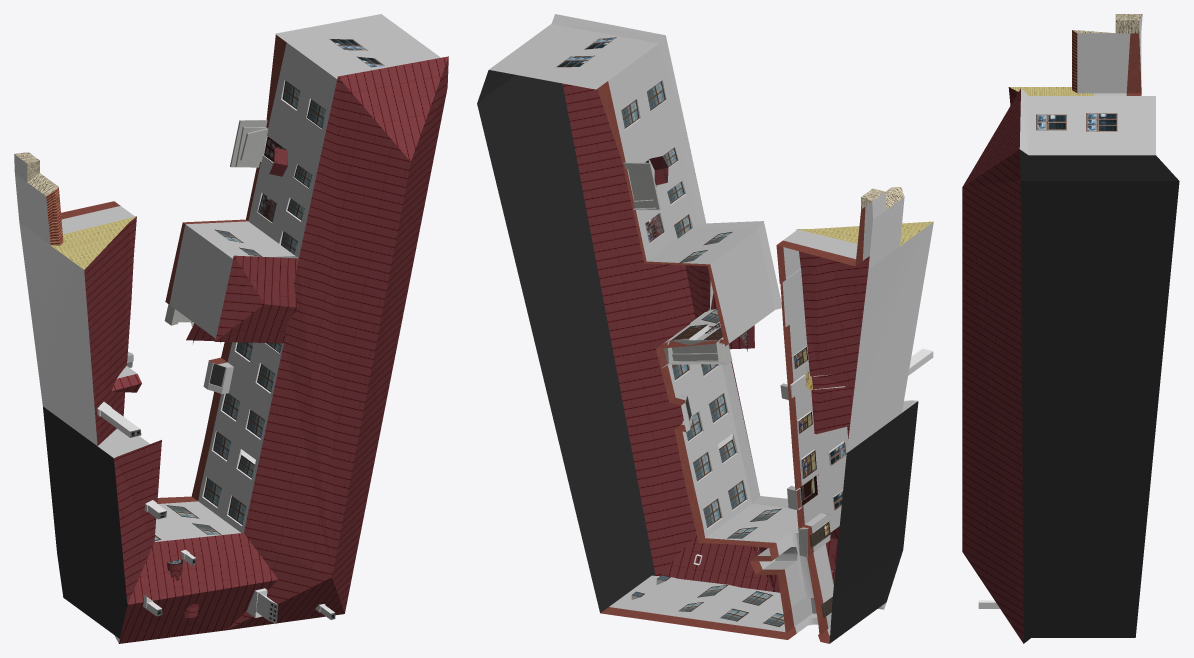
The model's file is Rahukohtu_5-origo.obj.
The picture shows the model from 3 angles, left to right: view 1: azimuth 30°, elevation 25°; view 2: azimuth 150°, elevation 25°; view 3: azimuth 270°, elevation 25°; orthographic projection. The views are drawn at different scales.
Visible parts, largest first — view 1: Rahukohtu_5; view 2: Rahukohtu_5; view 3: Rahukohtu_5.
Boxes of the visible parts, box(x1,y1,x2,y2) form: Rahukohtu_5: box(14, 14, 448, 643); Rahukohtu_5: box(477, 14, 933, 643); Rahukohtu_5: box(962, 14, 1179, 643).
Size of the model in its own units: 31.19 by 43 by 15.33.
